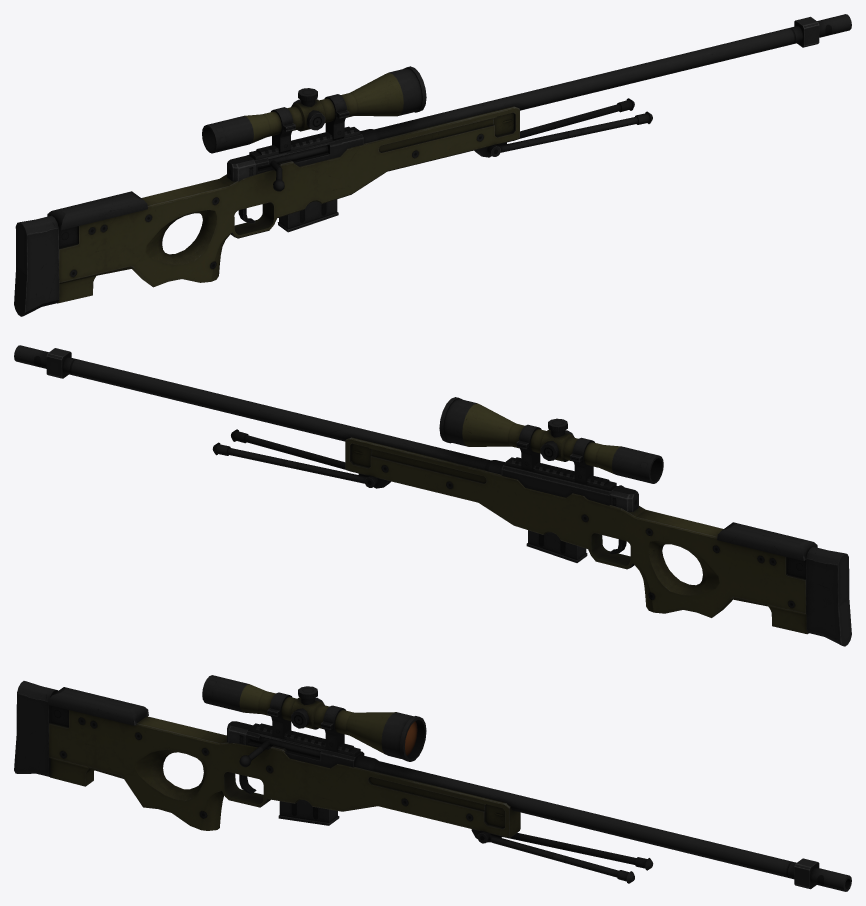
Rendered from AWP.fbx.
3 renders of one model, top to bottom at view 1: azimuth 30°, elevation 25°; view 2: azimuth 150°, elevation 25°; view 3: azimuth 330°, elevation 25°, orthographic.
Parts seen in each view (by area): view 1: AWP; view 2: AWP; view 3: AWP.
Part boxes in pixels (x1,y1,x2,y2): AWP: (14,14,851,316); AWP: (14,345,851,646); AWP: (14,675,851,891).
Bounding box in the file's own units: 1023 × 190 × 69.54.
1 material, 1 textured.
